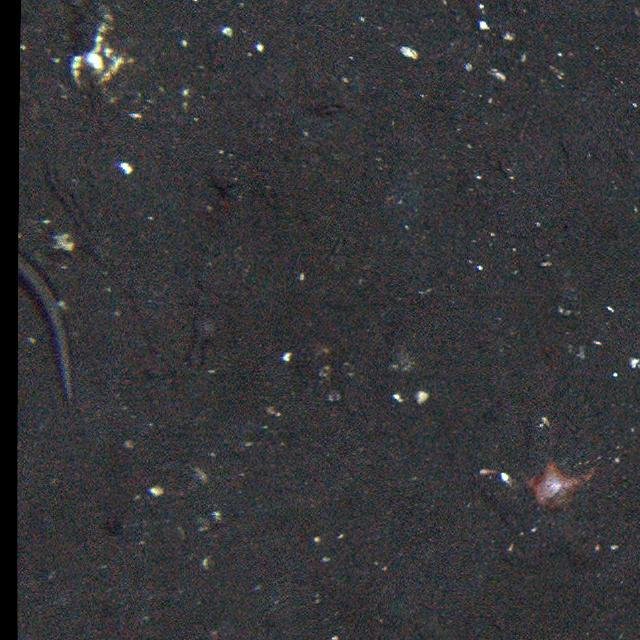eel: (17, 248, 85, 409)
